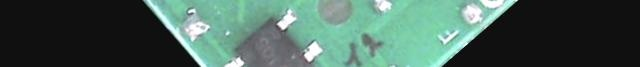ic: (212, 0, 331, 67)
